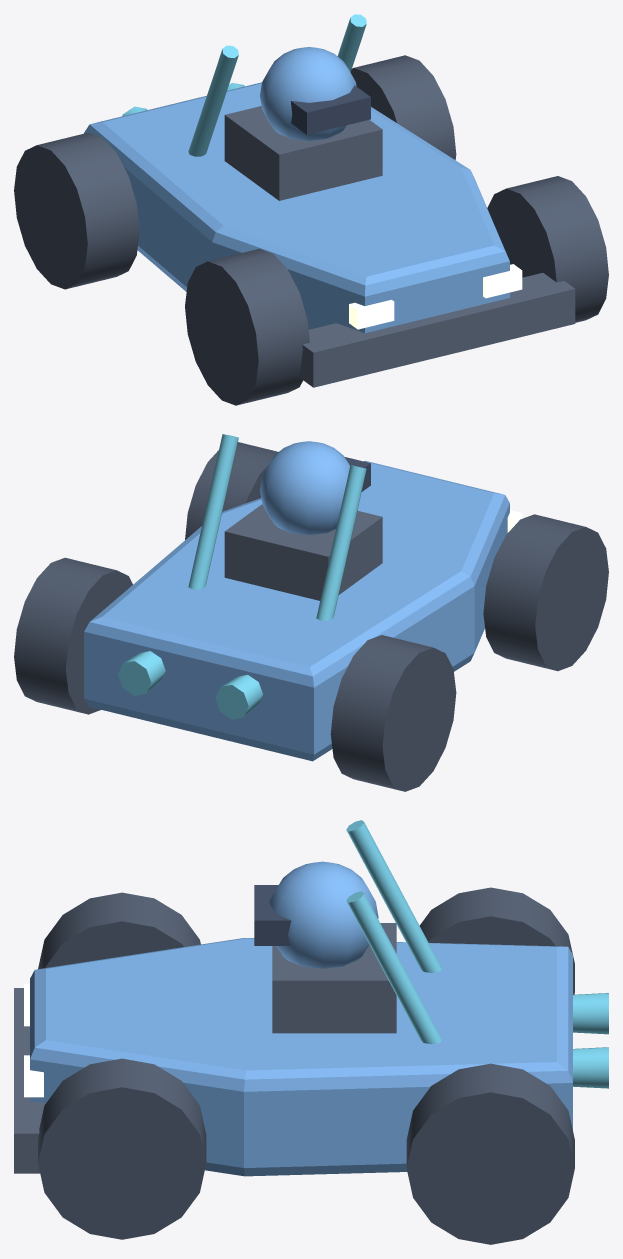
The model's file is buggy.glb.
3 renders of one model, top to bottom at view 1: azimuth 30°, elevation 25°; view 2: azimuth 150°, elevation 25°; view 3: azimuth 270°, elevation 25°, orthographic. The views are drawn at different scales.
Parts seen in each view (by area): view 1: KartBody, KartWheel_RL, KartWheel_FL, KartBumper, KartWheel_FR, KartSeat, KartWheel_RR, KartHelmet, KartVisor, KartAccent_CageL, KartHeadlightL, KartHeadlightR (+1 smaller); view 2: KartBody, KartWheel_FL, KartWheel_RL, KartWheel_RR, KartSeat, KartHelmet, KartWheel_FR, KartAccent_CageR, KartAccent_CageL, KartAccent_ExhaustR, KartAccent_ExhaustL; view 3: KartBody, KartWheel_RR, KartWheel_FR, KartSeat, KartHelmet, KartWheel_FL, KartWheel_RL, KartAccent_CageL, KartAccent_CageR, KartBumper, KartVisor, KartAccent_ExhaustR (+2 smaller).
Boxes of the visible parts, x1,y1,x2,y2 form: KartBody: (84,82,509,333); KartWheel_RL: (14,132,139,289); KartWheel_FL: (185,248,309,405); KartBumper: (298,273,575,387); KartWheel_FR: (487,176,608,322); KartSeat: (224,106,382,200); KartWheel_RR: (350,55,456,159); KartHelmet: (260,47,356,140); KartVisor: (290,85,370,134); KartAccent_CageL: (188,45,238,156); KartHeadlightL: (349,299,394,329); KartHeadlightR: (483,264,522,298); KartBody: (84,460,509,761); KartWheel_FL: (483,514,608,671); KartWheel_RL: (330,635,456,791); KartWheel_RR: (14,557,132,714); KartSeat: (224,504,382,600); KartHelmet: (260,441,350,535); KartWheel_FR: (185,442,278,539); KartAccent_CageR: (188,434,238,589); KartAccent_CageL: (316,465,366,620); KartAccent_ExhaustR: (118,651,165,695); KartAccent_ExhaustL: (215,674,262,719); KartBody: (30,938,572,1176); KartWheel_RR: (406,1063,574,1244); KartWheel_FR: (38,1058,206,1239); KartSeat: (272,923,396,1033); KartHelmet: (269,861,378,968); KartWheel_FL: (38,892,200,969); KartWheel_RL: (419,887,574,994); KartAccent_CageL: (346,820,442,972); KartAccent_CageR: (346,891,442,1044); KartBumper: (14,988,45,1173); KartVisor: (254,885,291,945); KartAccent_ExhaustR: (573,1047,608,1088).
Bounding box in the file's own units: 2.42 × 1.57 × 2.97.
